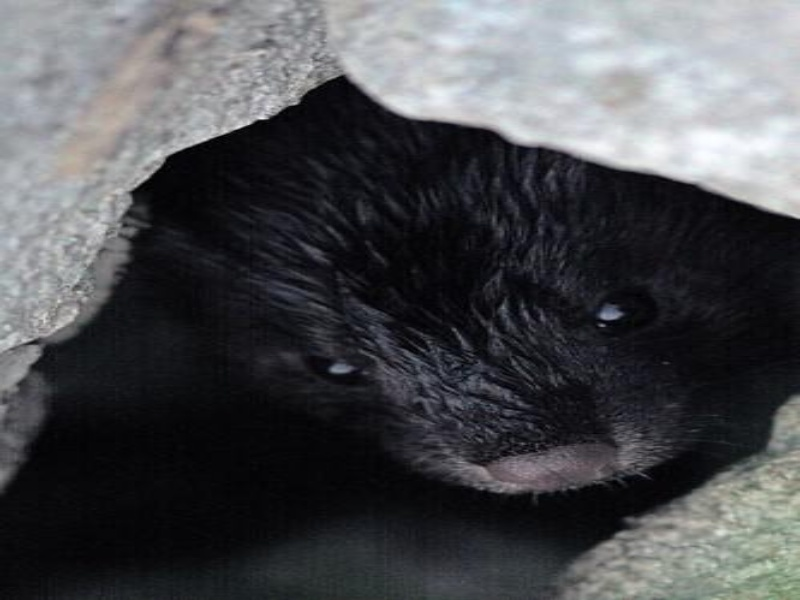minkish: (111, 108, 712, 517)
